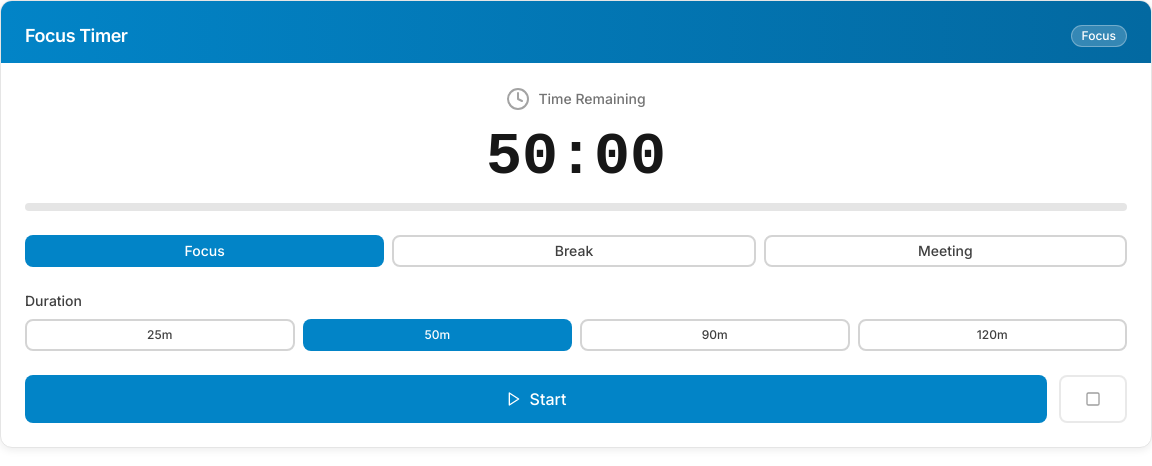
Test: FocusTimer › changes duration when duration button is clicked
// Click 25 minute duration
Click the button "25m": coordinates (160, 335) [25, 319, 294, 351]
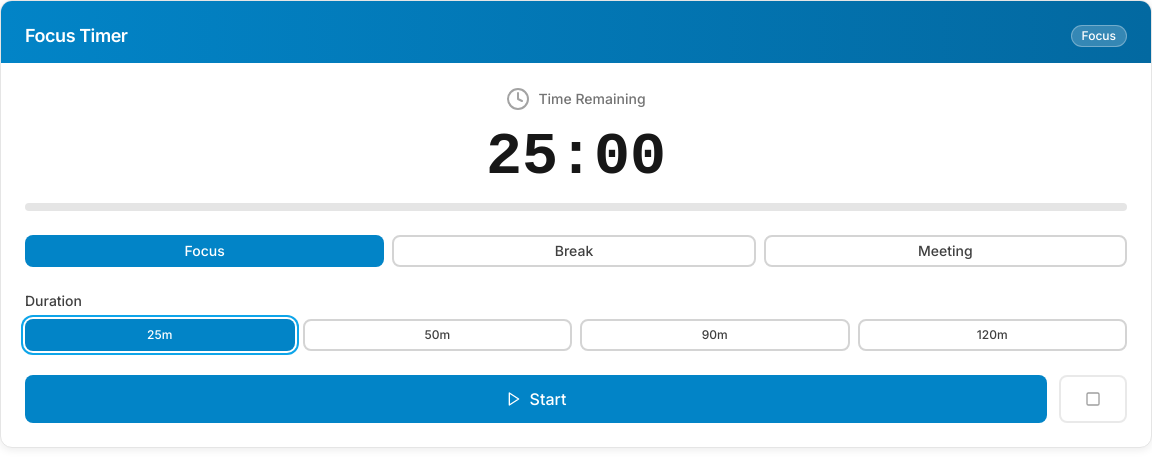
Check: the text "25:00" is shown, box [486, 123, 666, 191]
